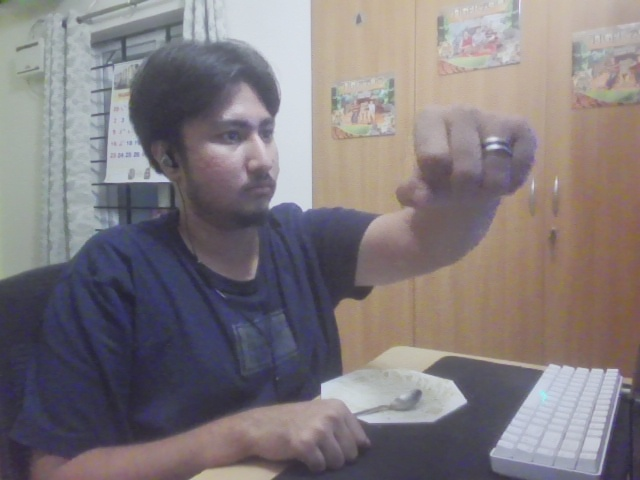yes: (394, 104, 540, 221)
